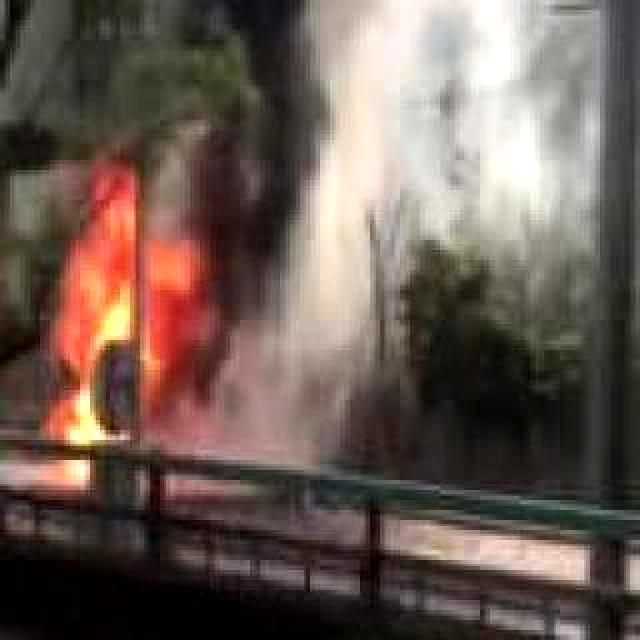fire: (34, 176, 204, 494)
